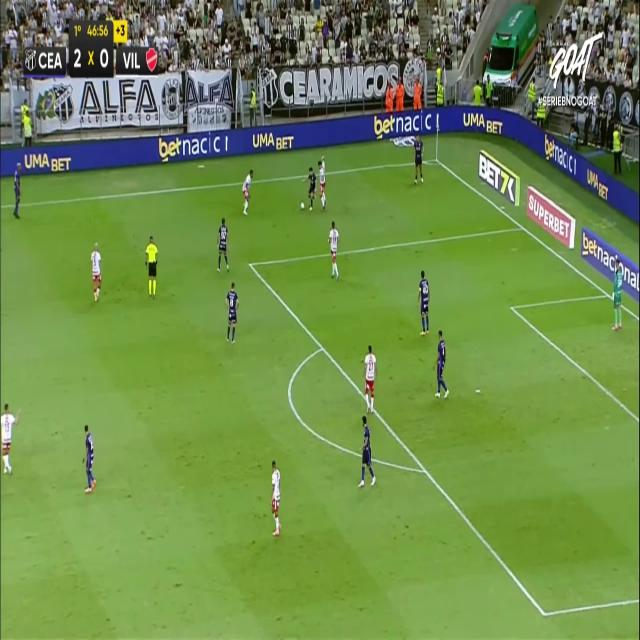ball: (299, 199, 306, 215)
goalkeeper: (611, 257, 623, 329)
player: (0, 401, 20, 474), (358, 415, 376, 487), (433, 329, 449, 398), (363, 344, 377, 413), (82, 424, 96, 492), (417, 269, 430, 335), (12, 161, 25, 227), (225, 282, 239, 343), (270, 460, 280, 535), (327, 220, 339, 280), (216, 217, 229, 272), (91, 242, 102, 301), (302, 166, 316, 211), (241, 168, 253, 215), (413, 133, 423, 183), (318, 156, 326, 210)
referee: (144, 235, 158, 298)
